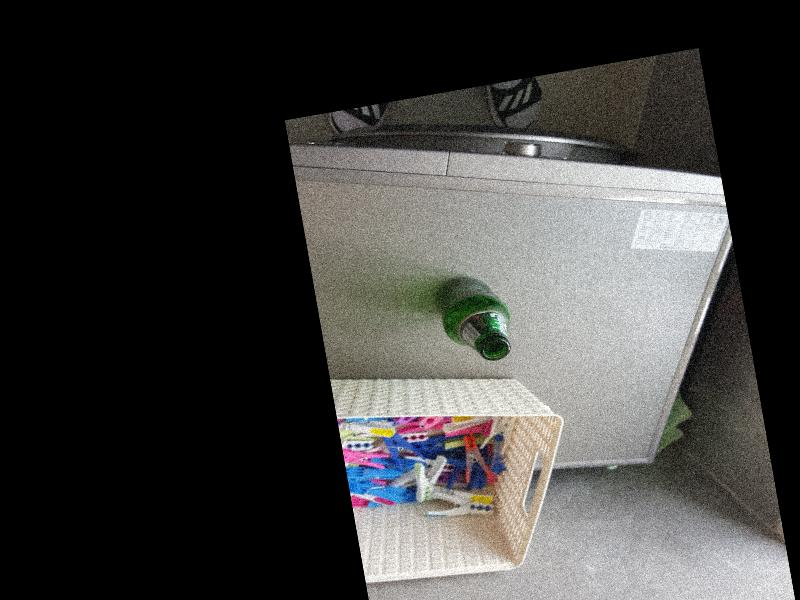Beer: (433, 269, 512, 367)
